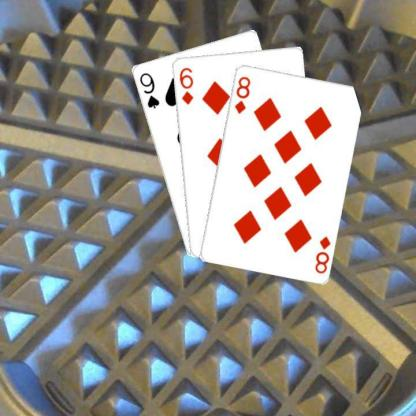6D: (176, 64, 194, 106)
8D: (232, 73, 252, 115), (312, 233, 332, 274)
9S: (136, 70, 161, 110)
